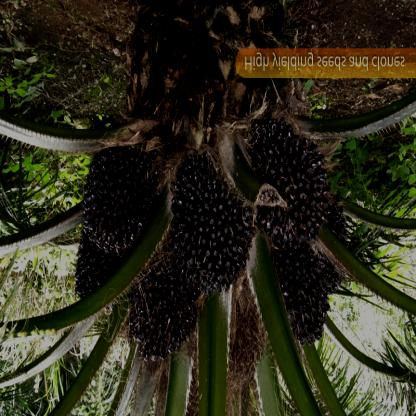palm-oil: (168, 155, 250, 290), (251, 118, 331, 248), (81, 140, 160, 256), (266, 247, 342, 351), (128, 270, 202, 364), (71, 229, 130, 303)
